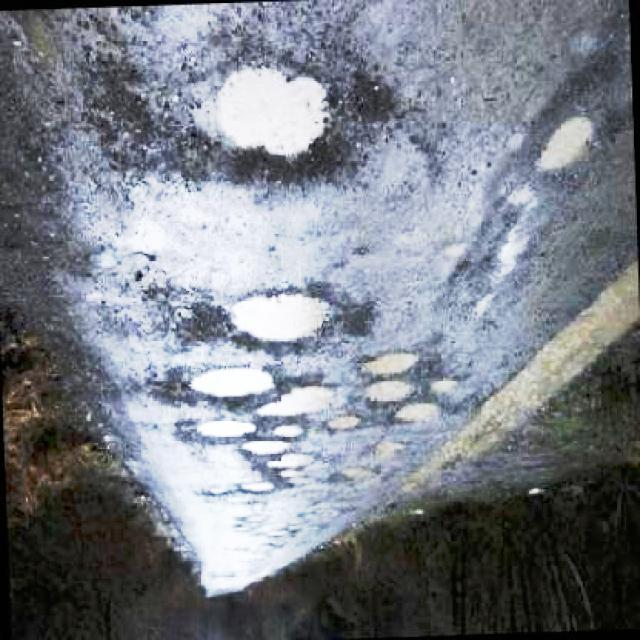pothole: (210, 54, 342, 172), (450, 196, 528, 322), (223, 281, 351, 354), (88, 66, 162, 168), (532, 102, 600, 186), (183, 351, 280, 403), (252, 379, 342, 426), (354, 342, 437, 380), (391, 394, 454, 429), (186, 411, 260, 438), (235, 434, 303, 461), (366, 377, 425, 408), (329, 462, 380, 489), (266, 451, 317, 478), (360, 437, 409, 463), (426, 376, 463, 402), (323, 412, 366, 432), (237, 478, 278, 496)
